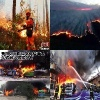fire: (50, 17, 100, 39), (1, 15, 27, 38), (1, 61, 36, 78), (57, 75, 74, 96), (33, 28, 47, 38), (33, 87, 48, 95), (2, 88, 14, 97), (68, 60, 73, 67)
